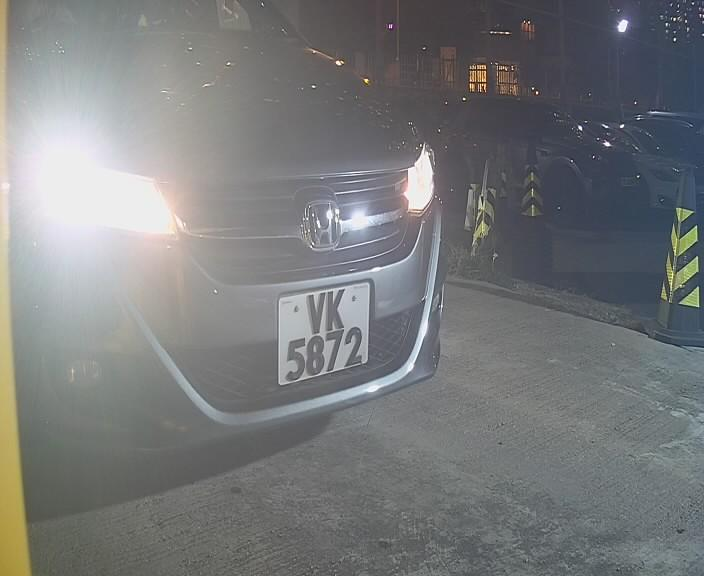License Plate: (268, 271, 375, 397)
